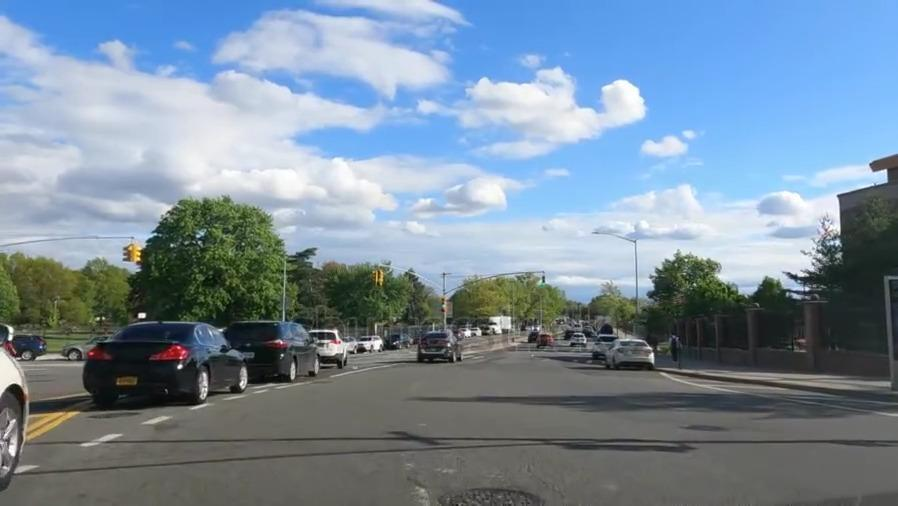car: (84, 324, 255, 411), (224, 313, 323, 381), (0, 313, 32, 494), (307, 322, 350, 369), (417, 329, 465, 362), (609, 339, 658, 369), (14, 327, 48, 361), (62, 335, 107, 359), (591, 333, 613, 356), (359, 334, 384, 353), (386, 333, 411, 351), (569, 330, 588, 348), (535, 333, 554, 349), (343, 334, 358, 354), (527, 331, 539, 341)
manhole: (426, 481, 546, 506)
person: (668, 331, 681, 359)
pothole: (682, 420, 727, 439)
traffic light: (125, 239, 143, 268), (367, 267, 387, 288), (438, 296, 449, 319), (539, 273, 549, 293)
wheel: (0, 387, 25, 484), (189, 363, 215, 405), (233, 356, 251, 394)
